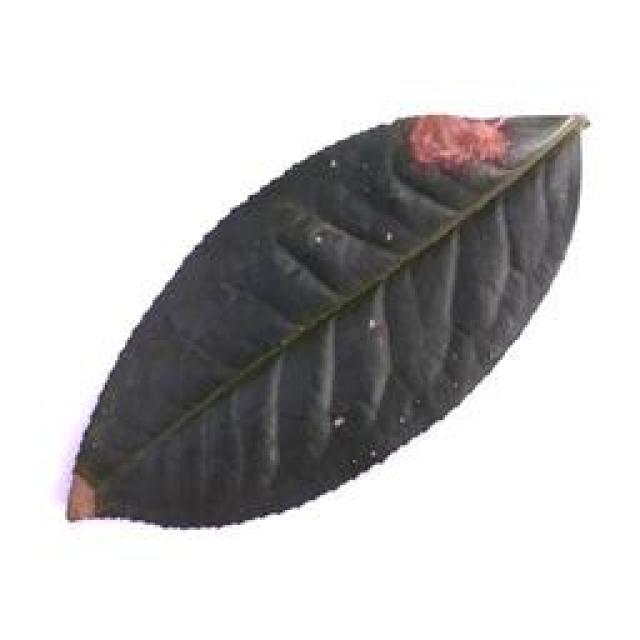Gray Blight: (65, 109, 589, 527)
